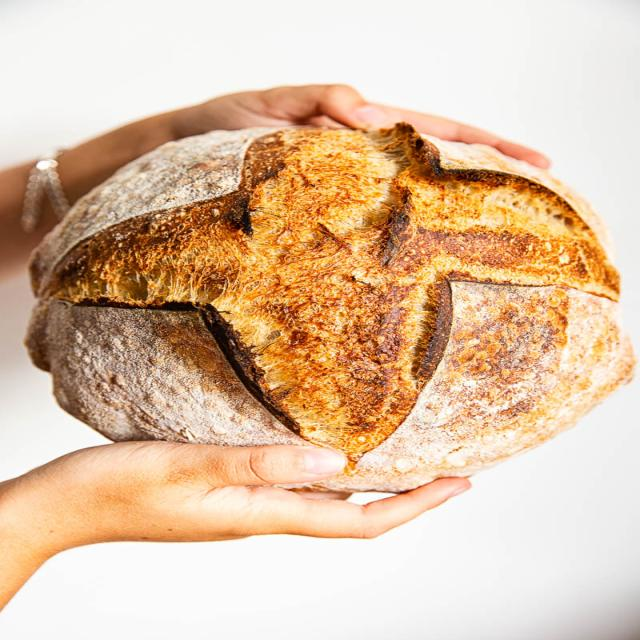Maltese-Bread: (26, 124, 634, 491)
